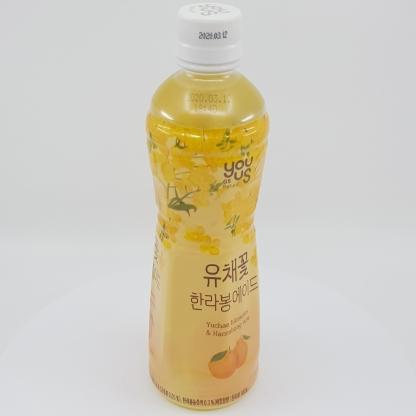-------------410ML: (145, 2, 270, 410)
